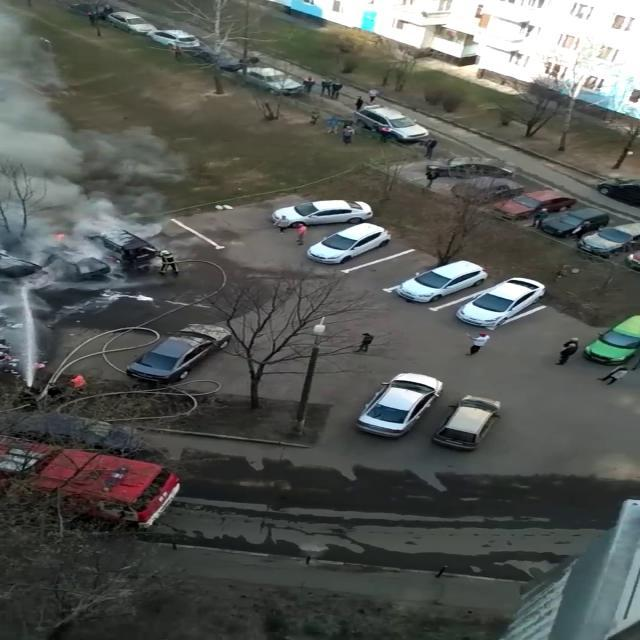Smoke: (0, 1, 186, 277)
